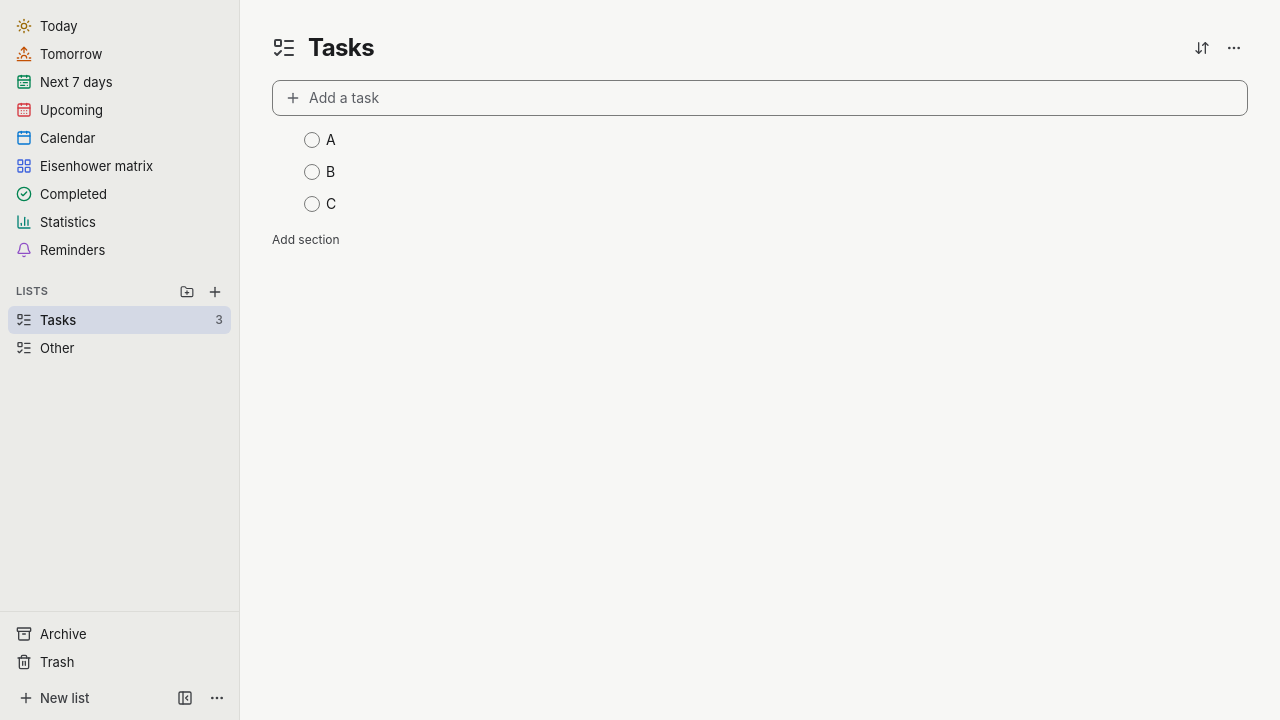
Test: the selection bar › sets the priority
This screenshot has width=1280, height=720.
Click the list item named "A" at (338, 140), box [304,128,373,152]
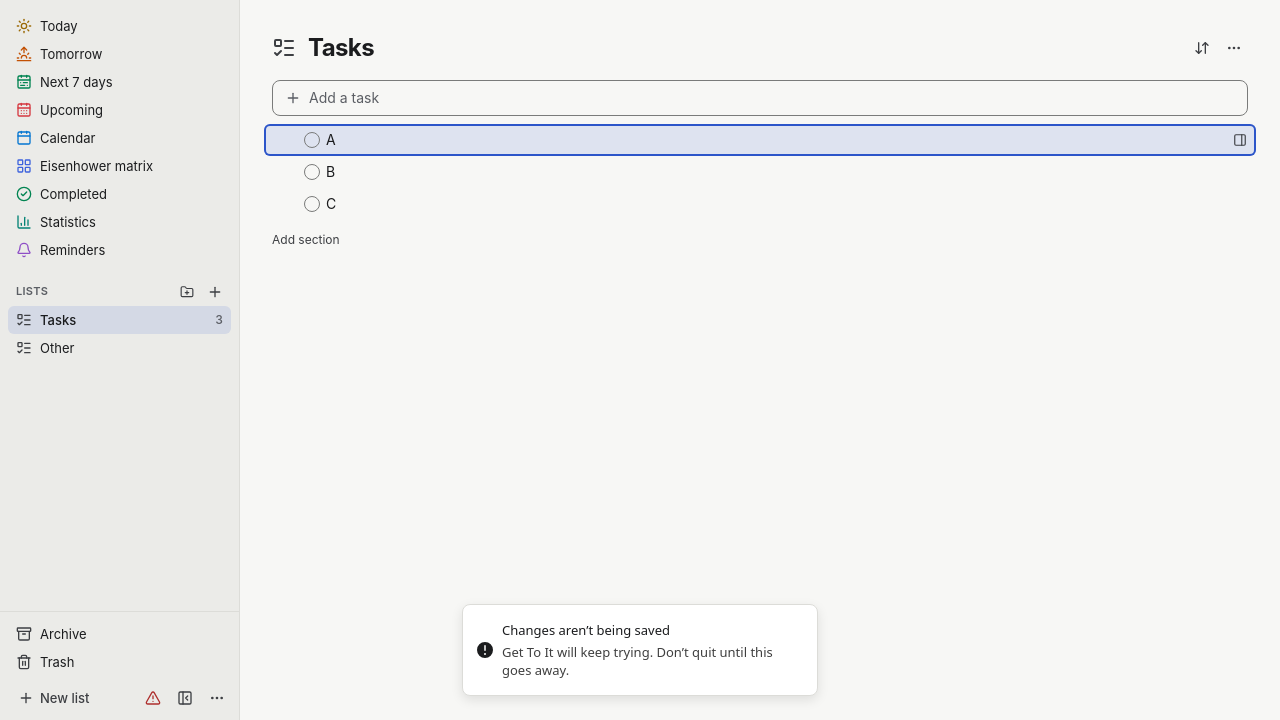
Type keys "{Shift>}"
Click the list item named "C" at (338, 204), box [304,192,373,216]
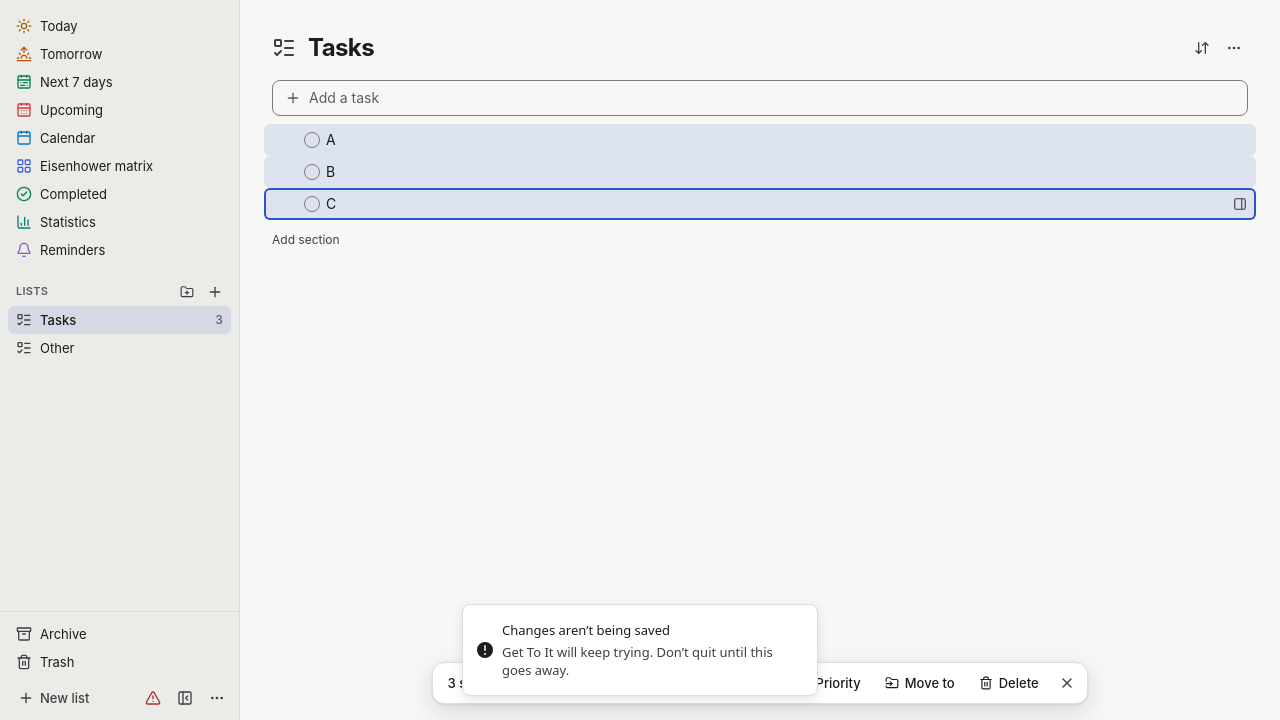
Type keys "{/Shift}"
Click the button "Priority" at (828, 683), box [786,669,871,697]
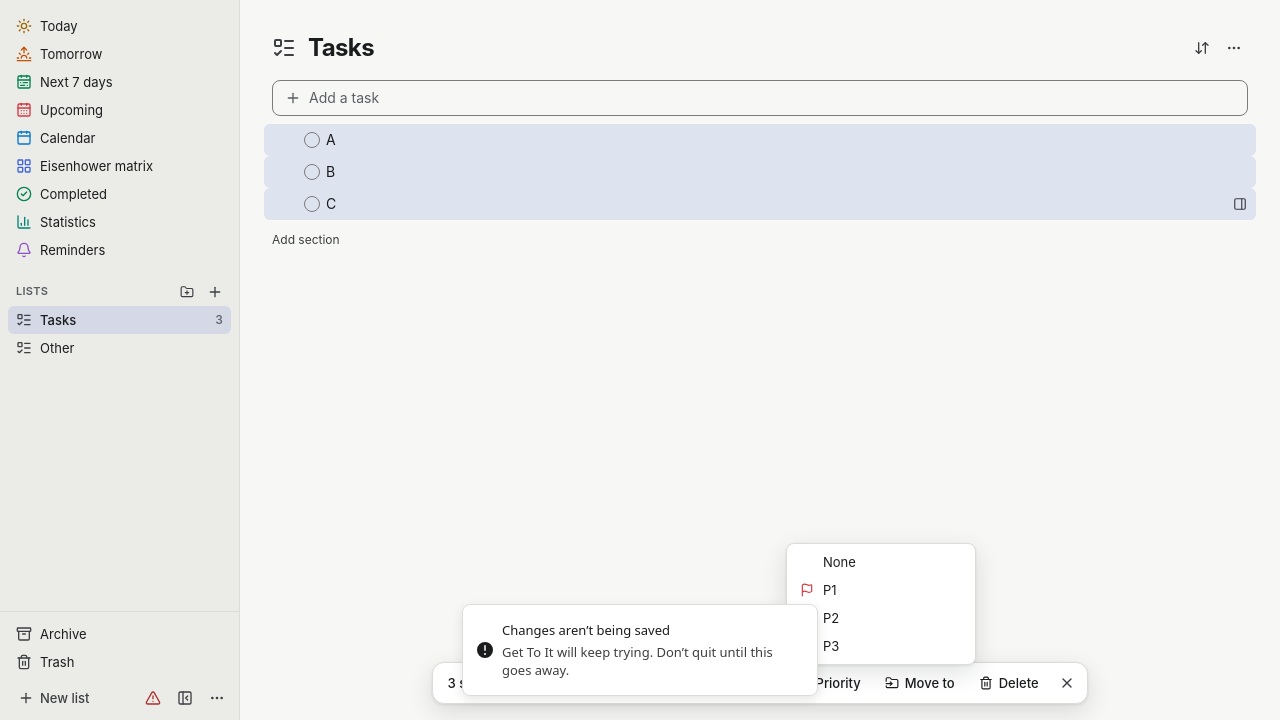
Click the menu item "P1" at (807, 590), box [800,582,837,598]
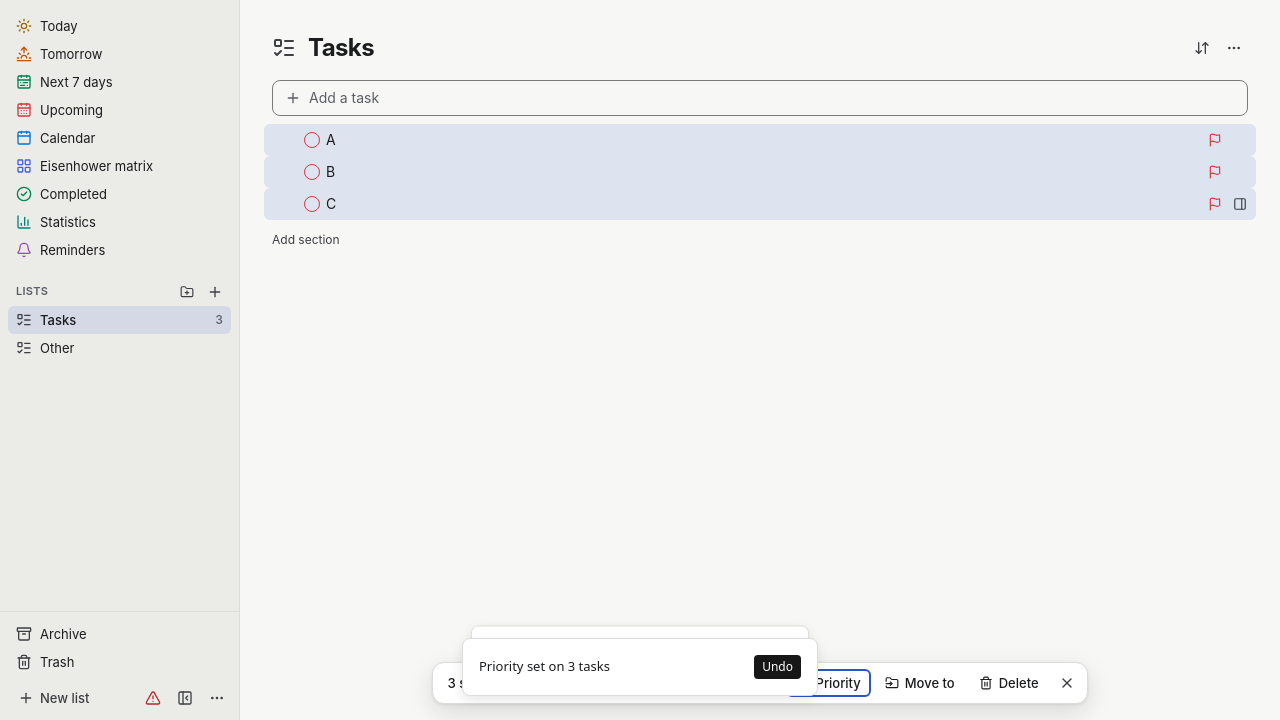
Expected: the text "Priority set on 3 tasks" is shown, [479,657,610,677]
